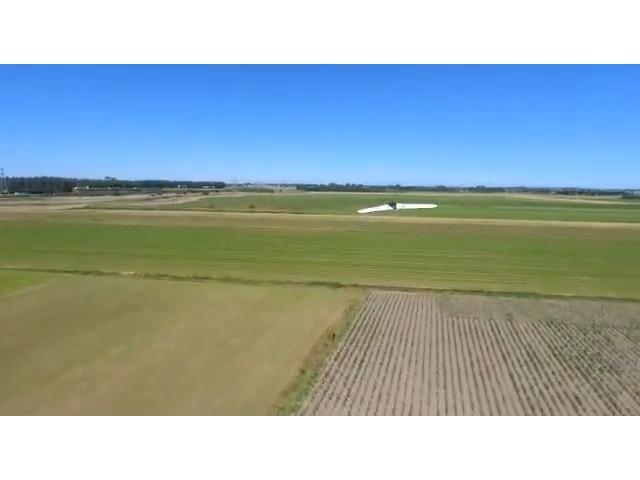Anti-Drone: (351, 181, 445, 233)
